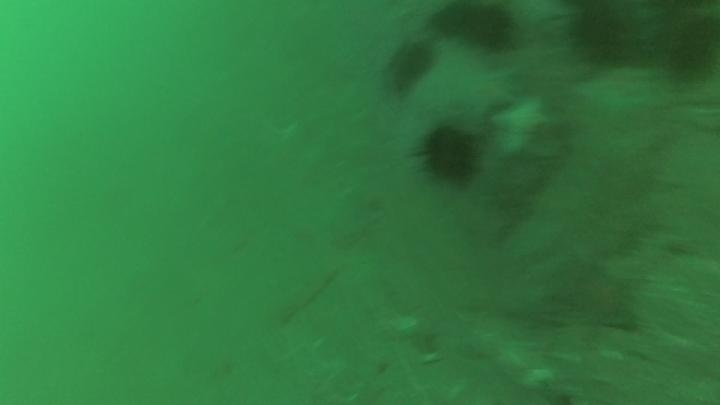echinus: (565, 2, 641, 67), (430, 1, 518, 54), (415, 121, 483, 188), (659, 10, 720, 83), (383, 37, 439, 94)
starfish: (415, 38, 519, 132), (548, 258, 645, 335), (489, 94, 557, 162)
